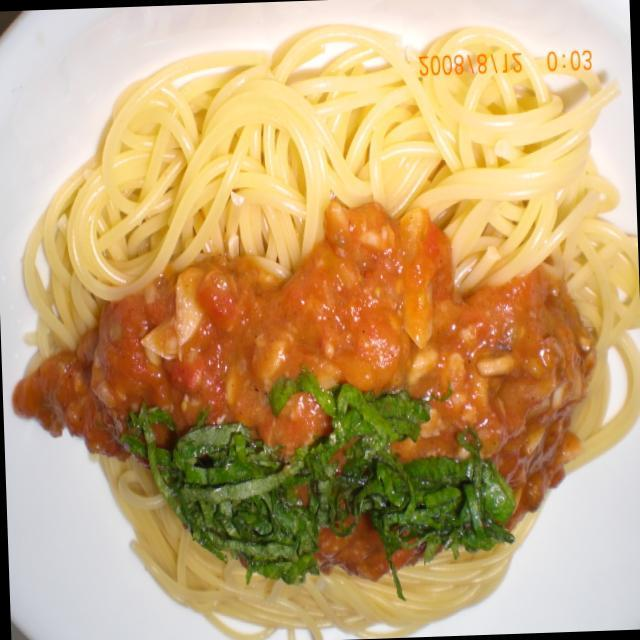Pasta: (30, 42, 632, 640)
